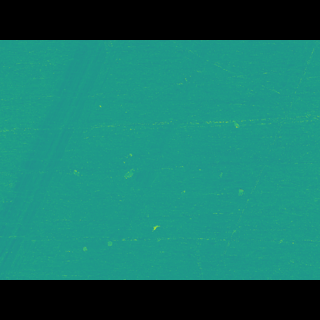Loch: (0, 69, 124, 249), (98, 68, 214, 233), (120, 162, 137, 175), (233, 179, 245, 188)
